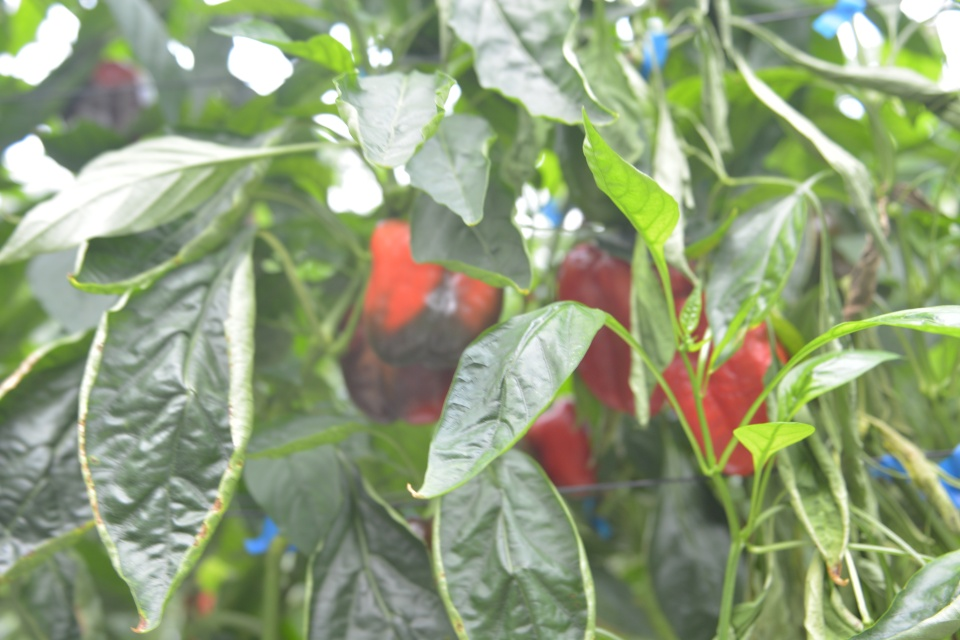fruit: (337, 219, 505, 427), (556, 238, 692, 423), (668, 289, 790, 477), (521, 395, 600, 497), (62, 56, 158, 129)
